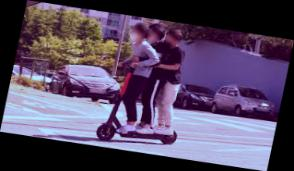multiple: (94, 17, 200, 150)
